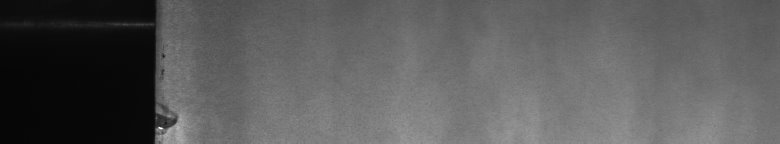hb: (164, 44, 190, 136)
